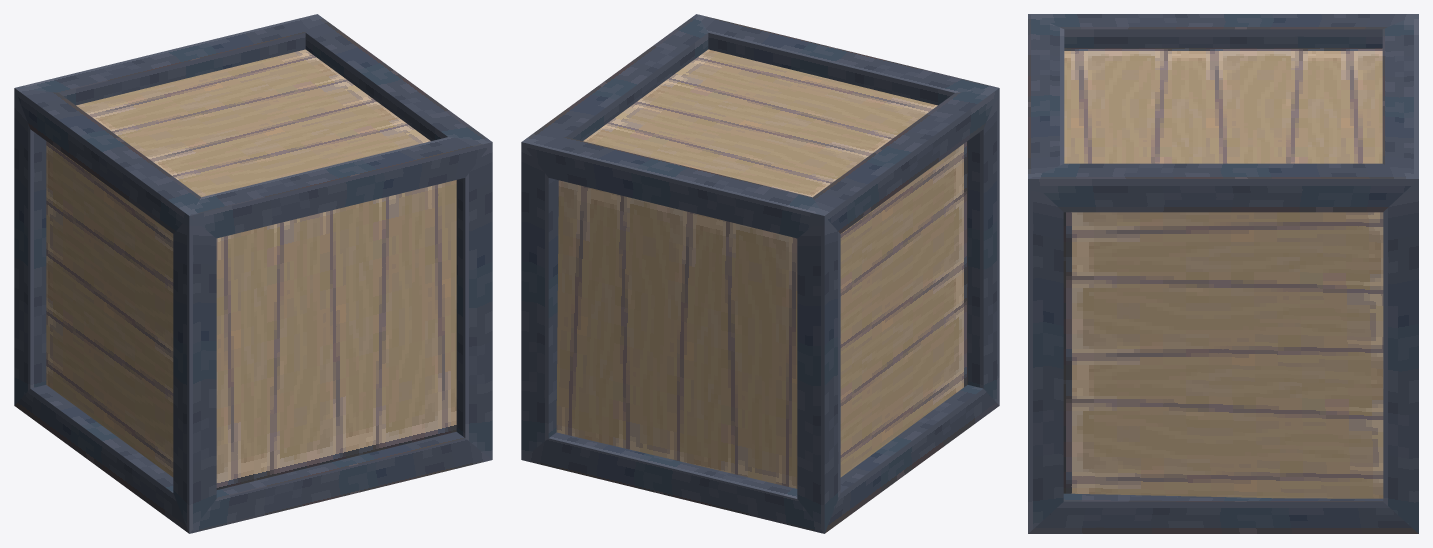
Rendered from big_crate.obj.
The picture shows the model from 3 angles, left to right: view 1: azimuth 30°, elevation 25°; view 2: azimuth 150°, elevation 25°; view 3: azimuth 270°, elevation 25°; orthographic projection. The views are drawn at different scales.
Visible parts, largest first — view 1: crate_big; view 2: crate_big; view 3: crate_big.
Boxes of the visible parts, x1,y1,x2,y2 form: crate_big: [14, 14, 492, 533]; crate_big: [521, 14, 999, 533]; crate_big: [1028, 14, 1418, 533].
Bounding box in the file's own units: 299 × 299 × 299.
